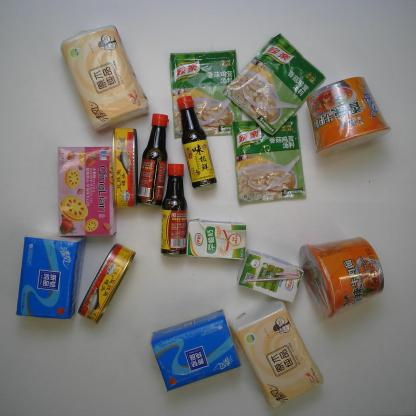Canned Food: (76, 242, 136, 325), (112, 126, 138, 210)
Dessert: (57, 145, 118, 237)
Instant Noodles: (298, 236, 385, 320), (306, 76, 392, 157)
Milk: (236, 248, 304, 304), (186, 218, 247, 260)
Seasoner: (222, 32, 327, 136), (231, 113, 307, 205), (168, 48, 240, 139), (176, 93, 218, 190), (136, 112, 170, 207), (160, 163, 188, 256)
Tissue: (230, 300, 324, 411), (59, 24, 150, 134), (150, 310, 242, 392), (15, 229, 86, 320)
